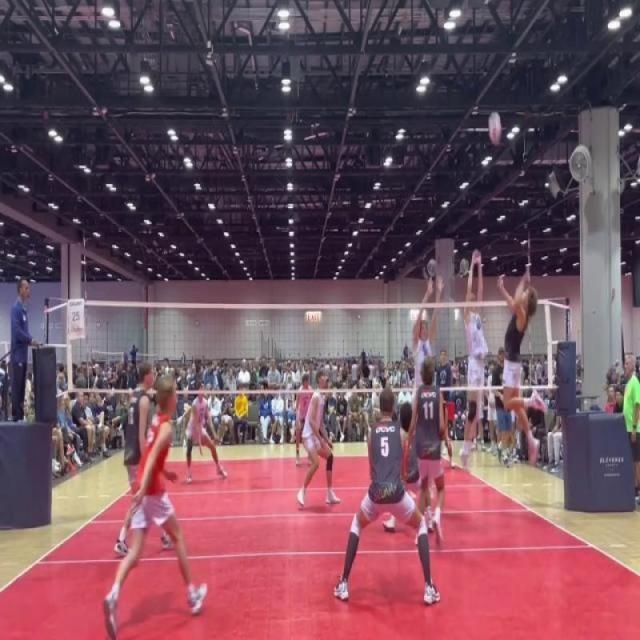volleyball: (487, 108, 502, 148)
